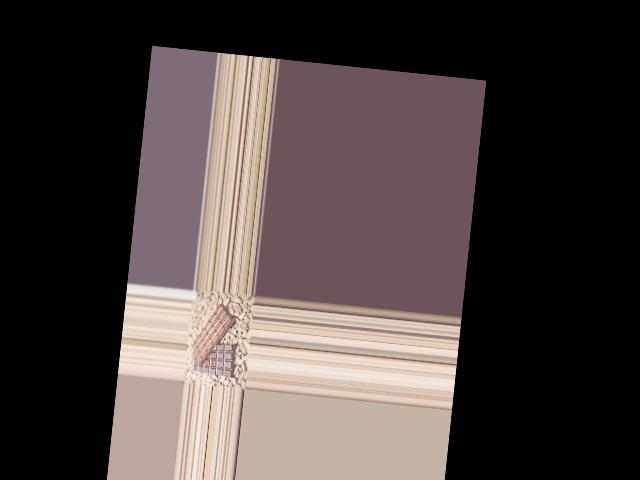chocolate: (189, 340, 239, 382)
